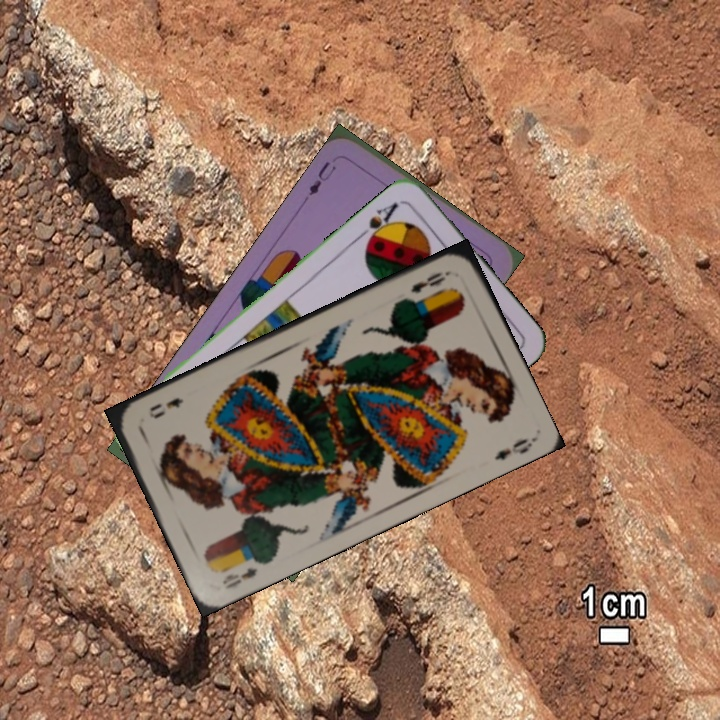EO: (218, 553, 270, 592), (406, 266, 454, 296)
EU: (304, 157, 339, 199)
SA: (354, 199, 401, 248)
